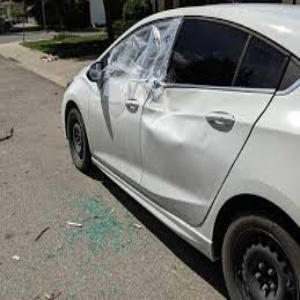bumper_scratch: (61, 167, 123, 209)
door: (226, 148, 297, 223)
